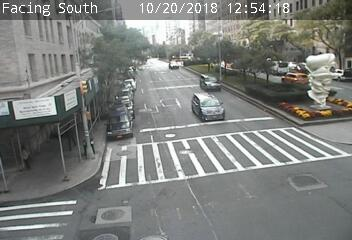car: (191, 92, 220, 119), (198, 75, 220, 91), (165, 58, 179, 71)
